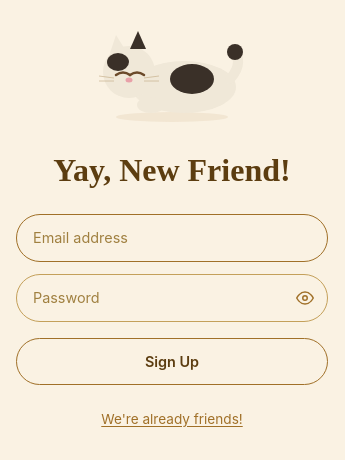
Test: Sign Up page › shows an error message when email is already taken
This screenshot has width=345, height=460.
Type "taken@example.com" into the field with placeholder "Email address". click: [172, 238]
box: [16, 214, 328, 262]
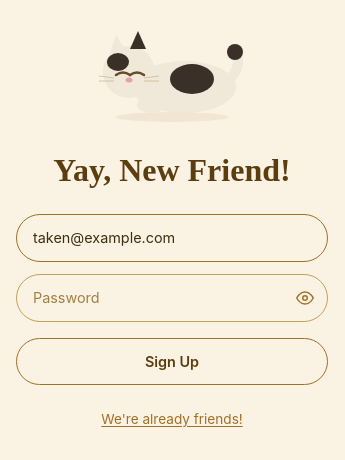
Type "pass1234" into the password field with placeholder "Password". click: [172, 298]
box: [16, 274, 328, 322]
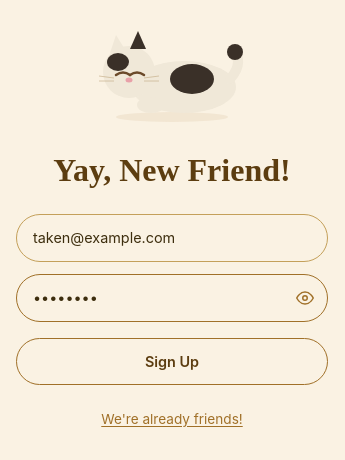
Click the button "Sign Up". click: [172, 361]
box: [16, 338, 328, 385]
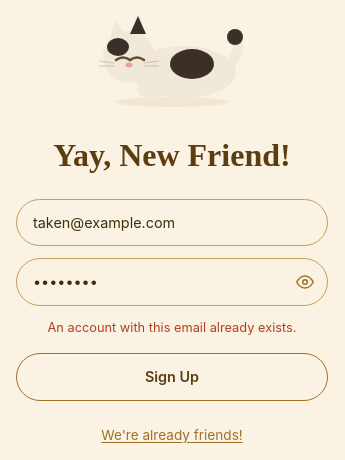
Result: the text "An account with this email already exists." is shown at [48, 320, 296, 335]
